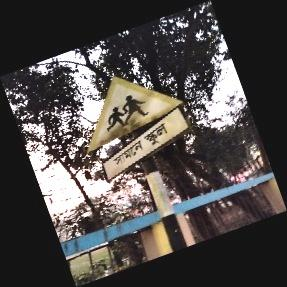School-in-front: (89, 77, 190, 181)
